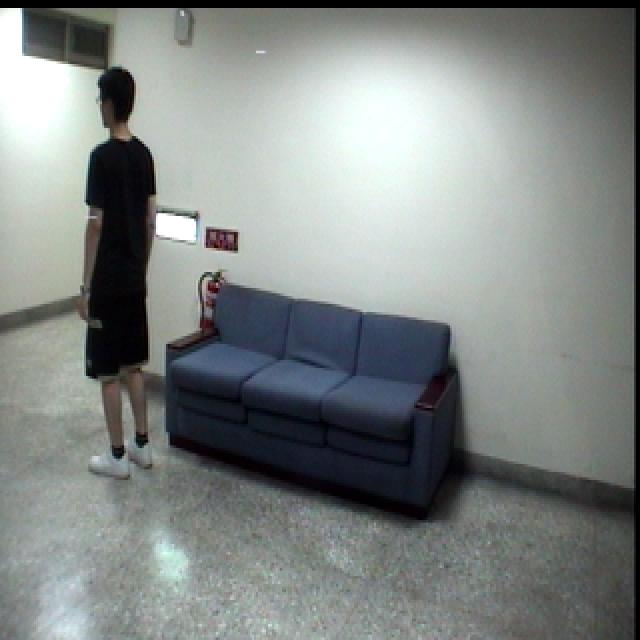stand: (73, 63, 177, 486)
